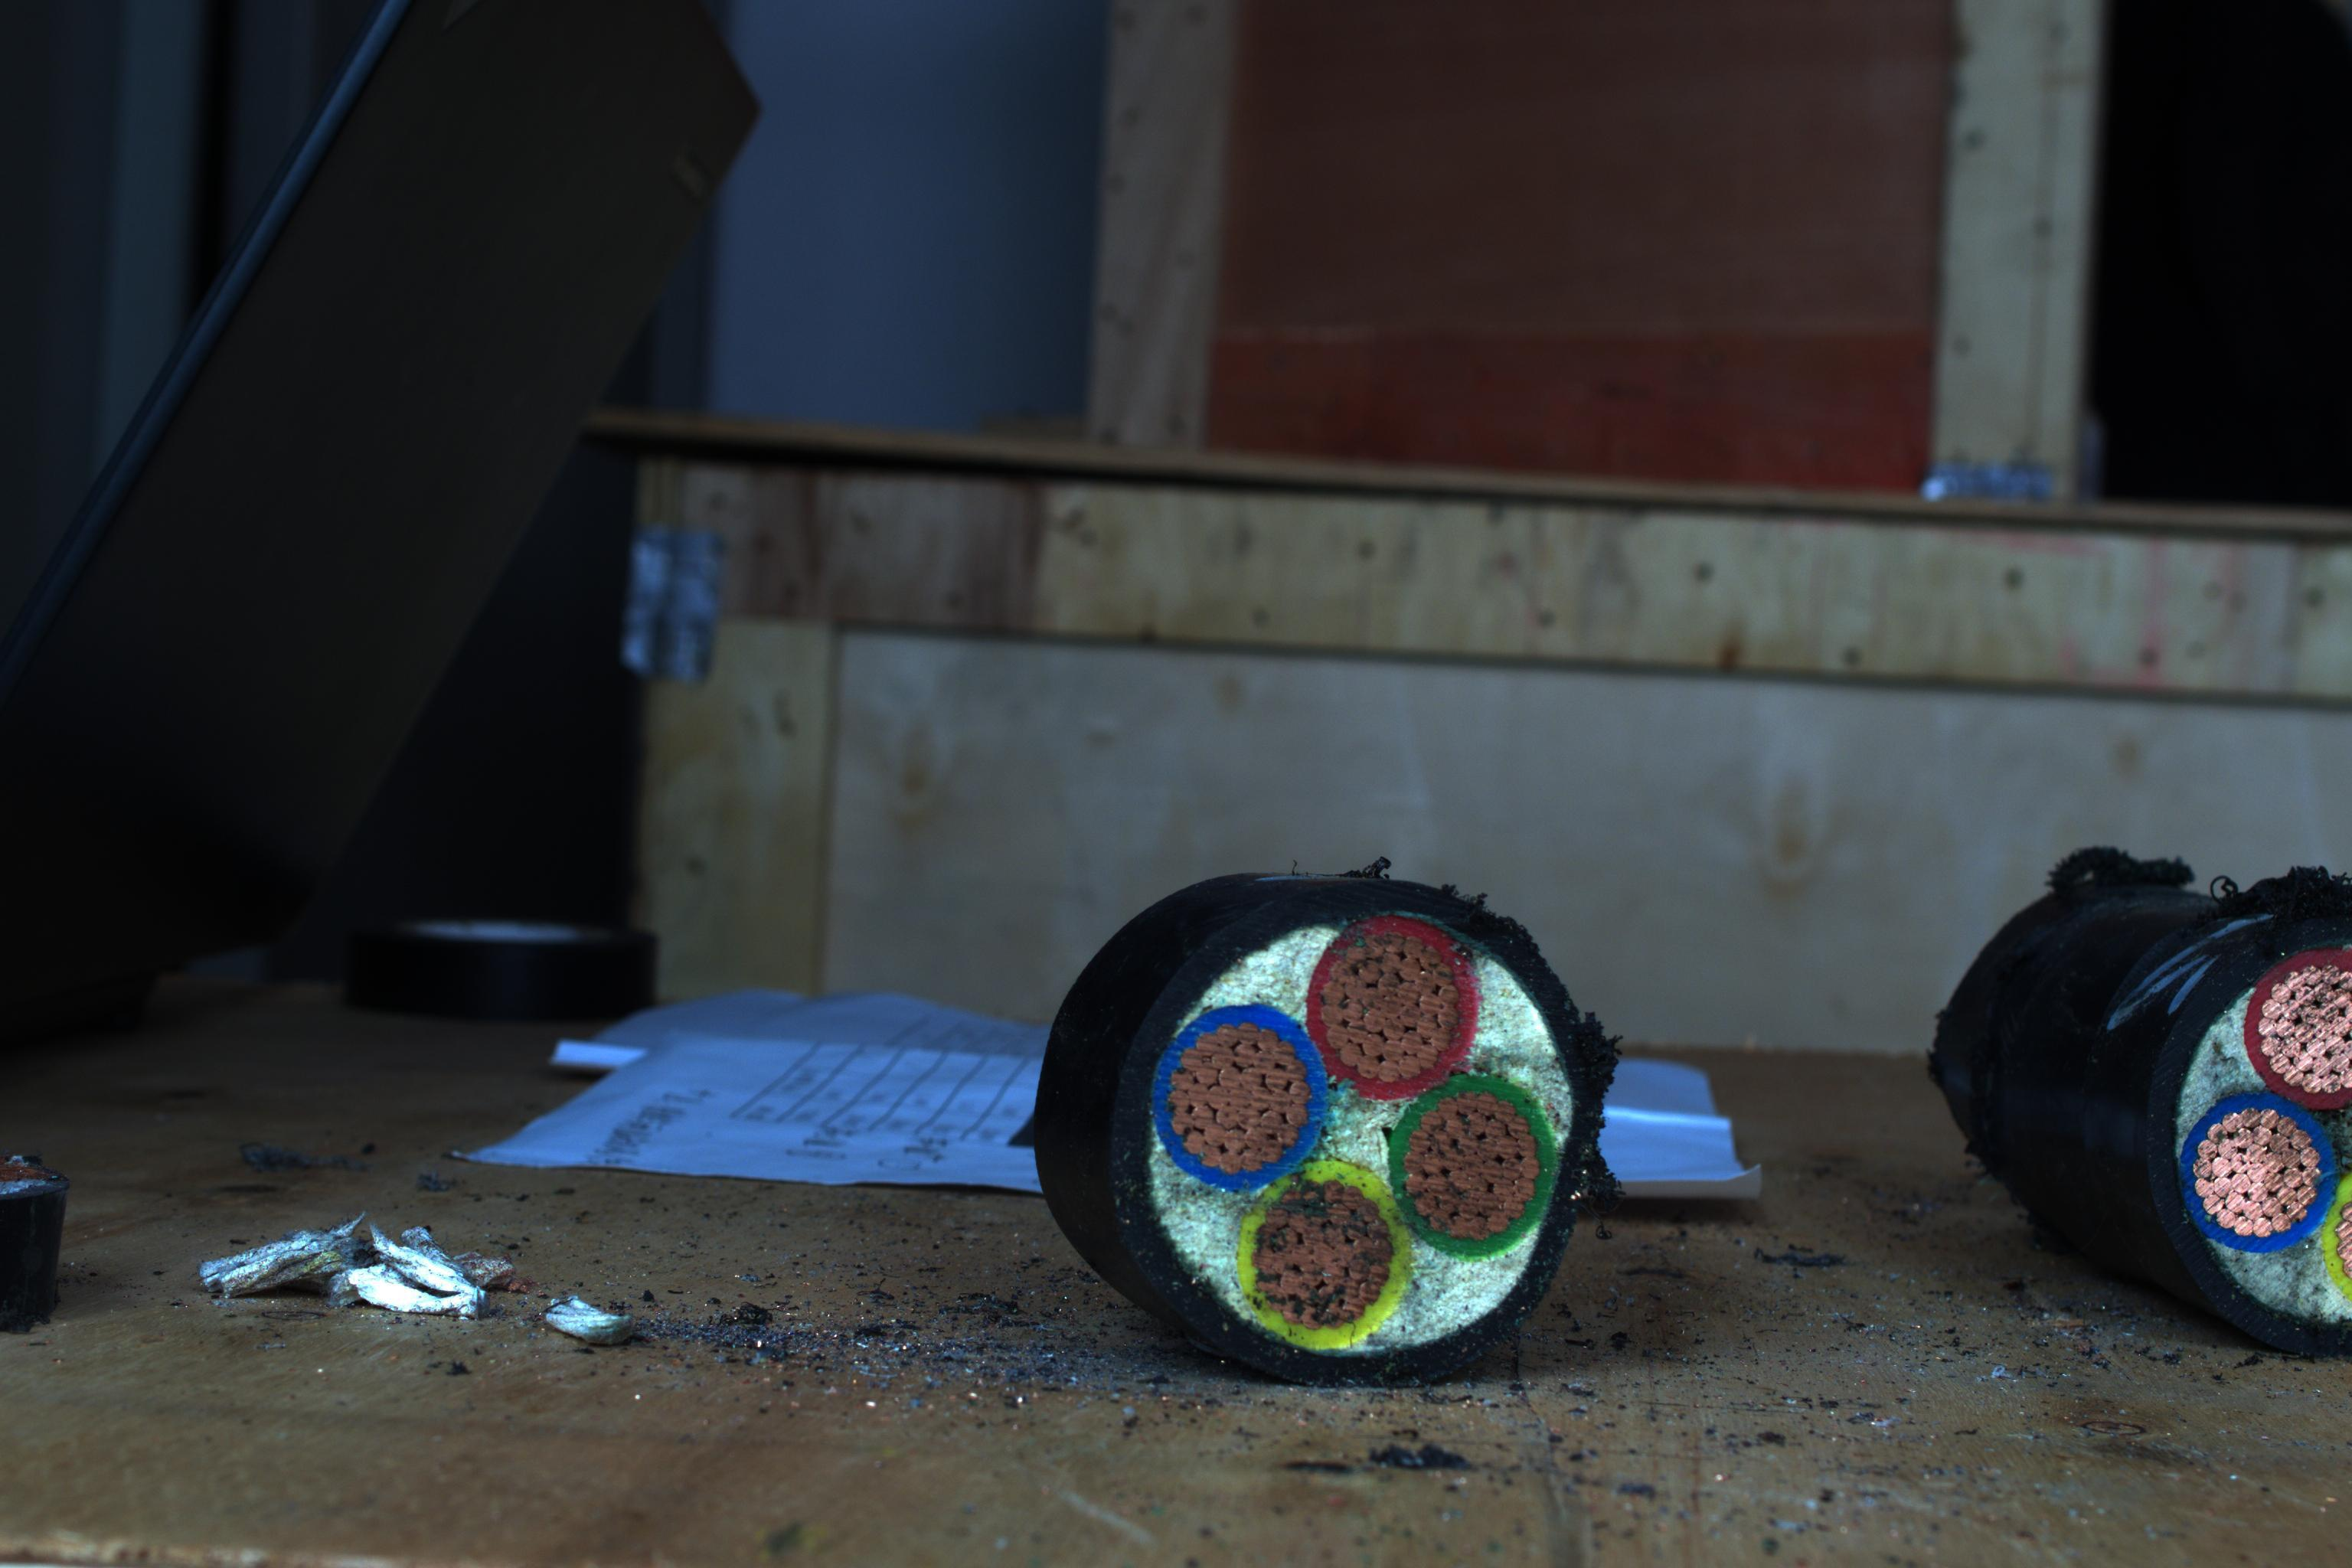YJV_0.6_1kV_4x185: (1057, 868, 1598, 1353)
